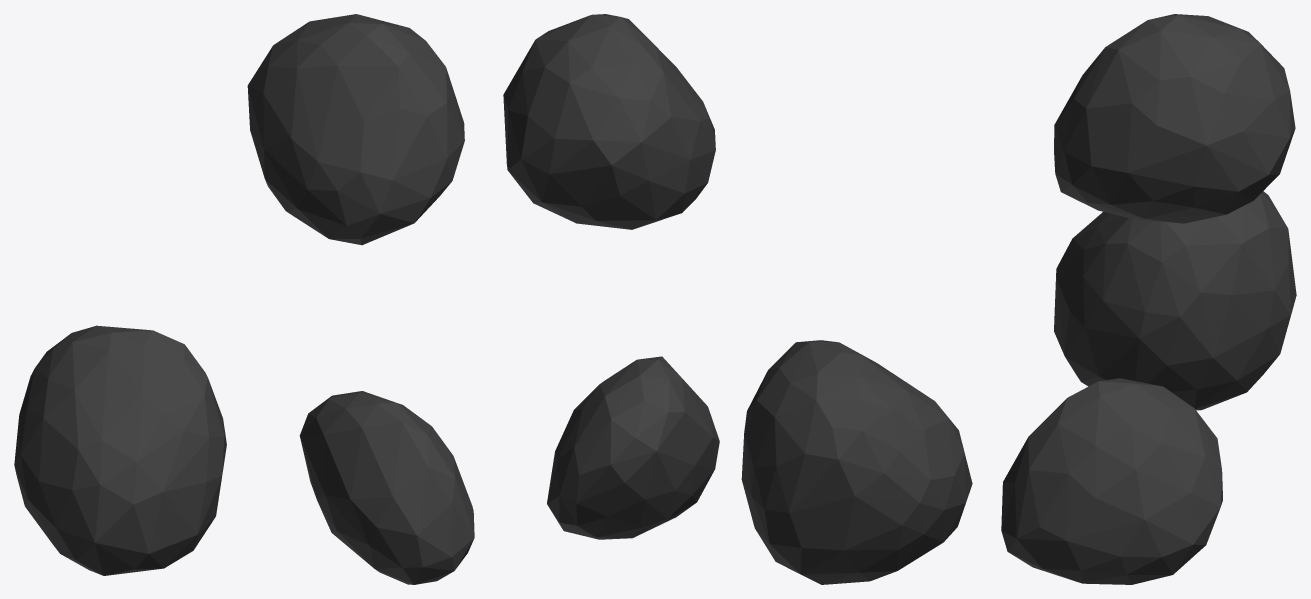
The model's file is node_lymph_colic_L_LP.glb.
3 renders of one model, left to right at view 1: azimuth 30°, elevation 25°; view 2: azimuth 150°, elevation 25°; view 3: azimuth 270°, elevation 25°, orthographic. The views are drawn at different scales.
Parts seen in each view (by area): view 1: node_lymph_colic_L_LP; view 2: node_lymph_colic_L_LP; view 3: node_lymph_colic_L_LP.
Boxes of the visible parts, x1=… form: node_lymph_colic_L_LP: x1=14, y1=14, x2=474, y2=584; node_lymph_colic_L_LP: x1=503, y1=14, x2=972, y2=584; node_lymph_colic_L_LP: x1=1001, y1=14, x2=1296, y2=584.
Bounding box in the file's own units: 0.000711 × 0.000856 × 0.000414.
Materials: 1 (1 with a texture image).
